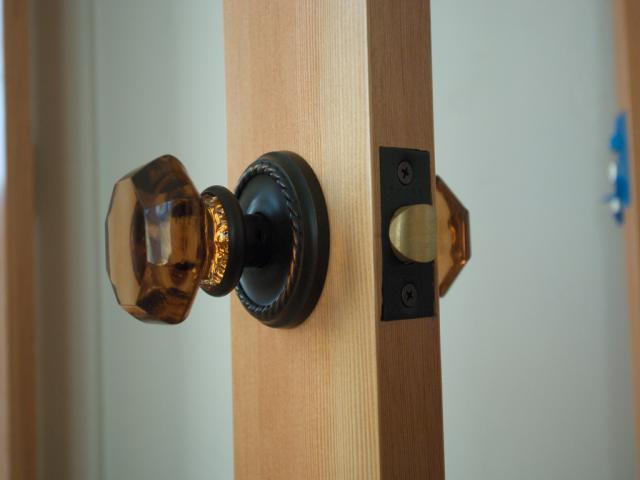Door-handle: (106, 150, 330, 328), (436, 174, 472, 299)
